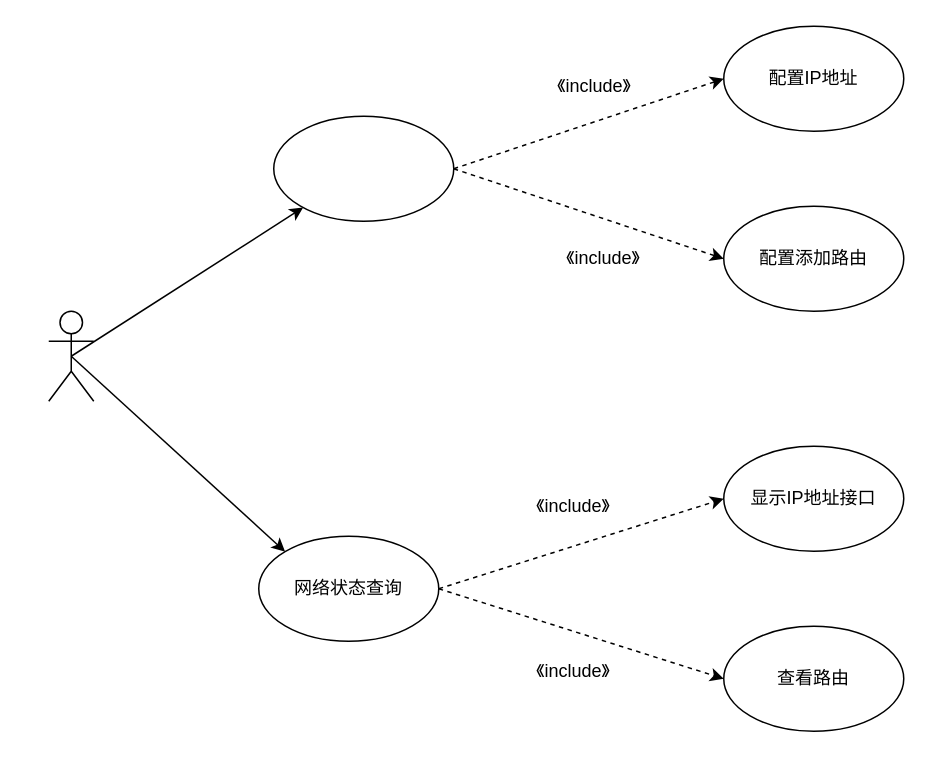
Some shapes in this 930 by 758 pixel diagram are drawn without their labels. Each missing label, with the centre of its shape:
网络管理员: point 70,355
网络配置: point 363,168
